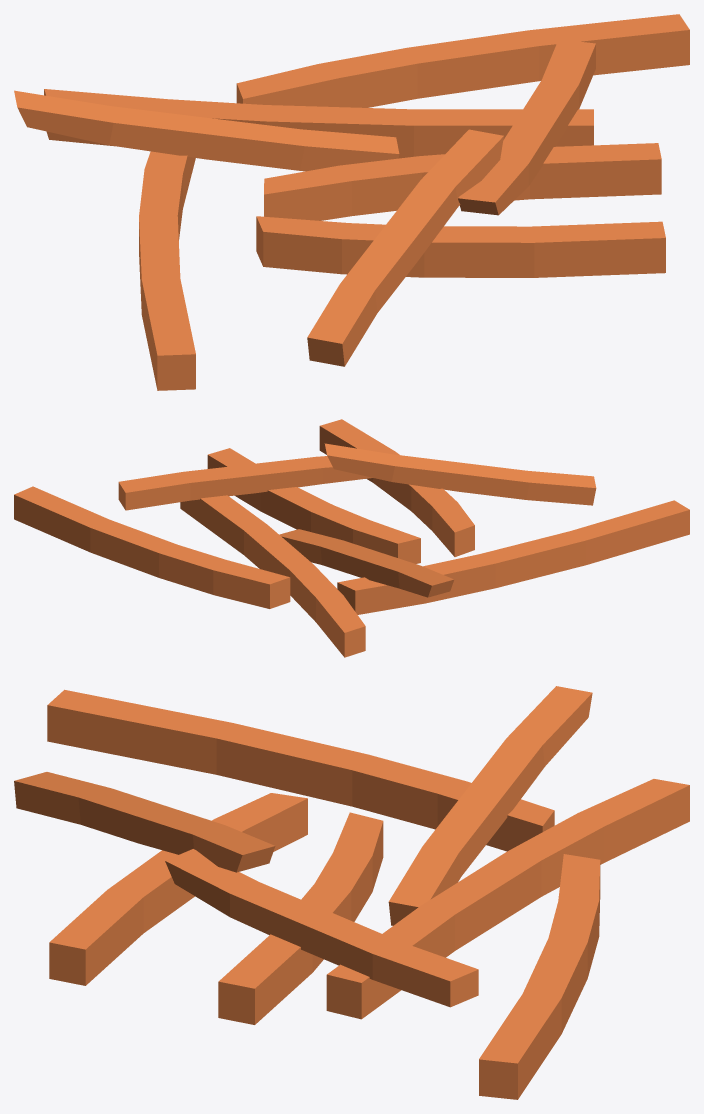
The picture shows the model from 3 angles, top to bottom: view 1: azimuth 30°, elevation 25°; view 2: azimuth 150°, elevation 25°; view 3: azimuth 270°, elevation 25°; orthographic projection. The views are drawn at different scales.
Parts seen in each view (by area): view 1: Box008, Box005, Box010, Box007, Box011, Box004, Box006, Box009; view 2: Box006, Box008, Box004, Box011, Box009, Box007, Box005, Box010; view 3: Box006, Box004, Box009, Box010, Box008, Box005, Box011, Box007.
Boxes of the visible parts, bbox=[...] form: Box008: bbox=[236, 14, 689, 107]; Box005: bbox=[256, 216, 665, 277]; Box010: bbox=[14, 90, 399, 171]; Box007: bbox=[264, 143, 661, 220]; Box011: bbox=[307, 129, 503, 366]; Box004: bbox=[44, 89, 593, 158]; Box006: bbox=[139, 151, 195, 390]; Box009: bbox=[458, 39, 595, 215]; Box006: bbox=[337, 500, 689, 614]; Box008: bbox=[14, 486, 290, 608]; Box004: bbox=[180, 495, 365, 657]; Box011: bbox=[324, 443, 596, 505]; Box009: bbox=[118, 451, 383, 510]; Box007: bbox=[207, 448, 420, 563]; Box005: bbox=[319, 419, 474, 556]; Box010: bbox=[279, 529, 454, 597]; Box006: bbox=[47, 689, 554, 851]; Box004: bbox=[326, 779, 689, 1019]; Box009: bbox=[165, 849, 478, 1007]; Box010: bbox=[388, 686, 592, 925]; Box008: bbox=[479, 854, 600, 1099]; Box005: bbox=[49, 793, 307, 985]; Box011: bbox=[14, 772, 275, 872]; Box007: bbox=[218, 812, 383, 1024].
Size of the model in its own units: 2500417 by 279472 by 1906688.
